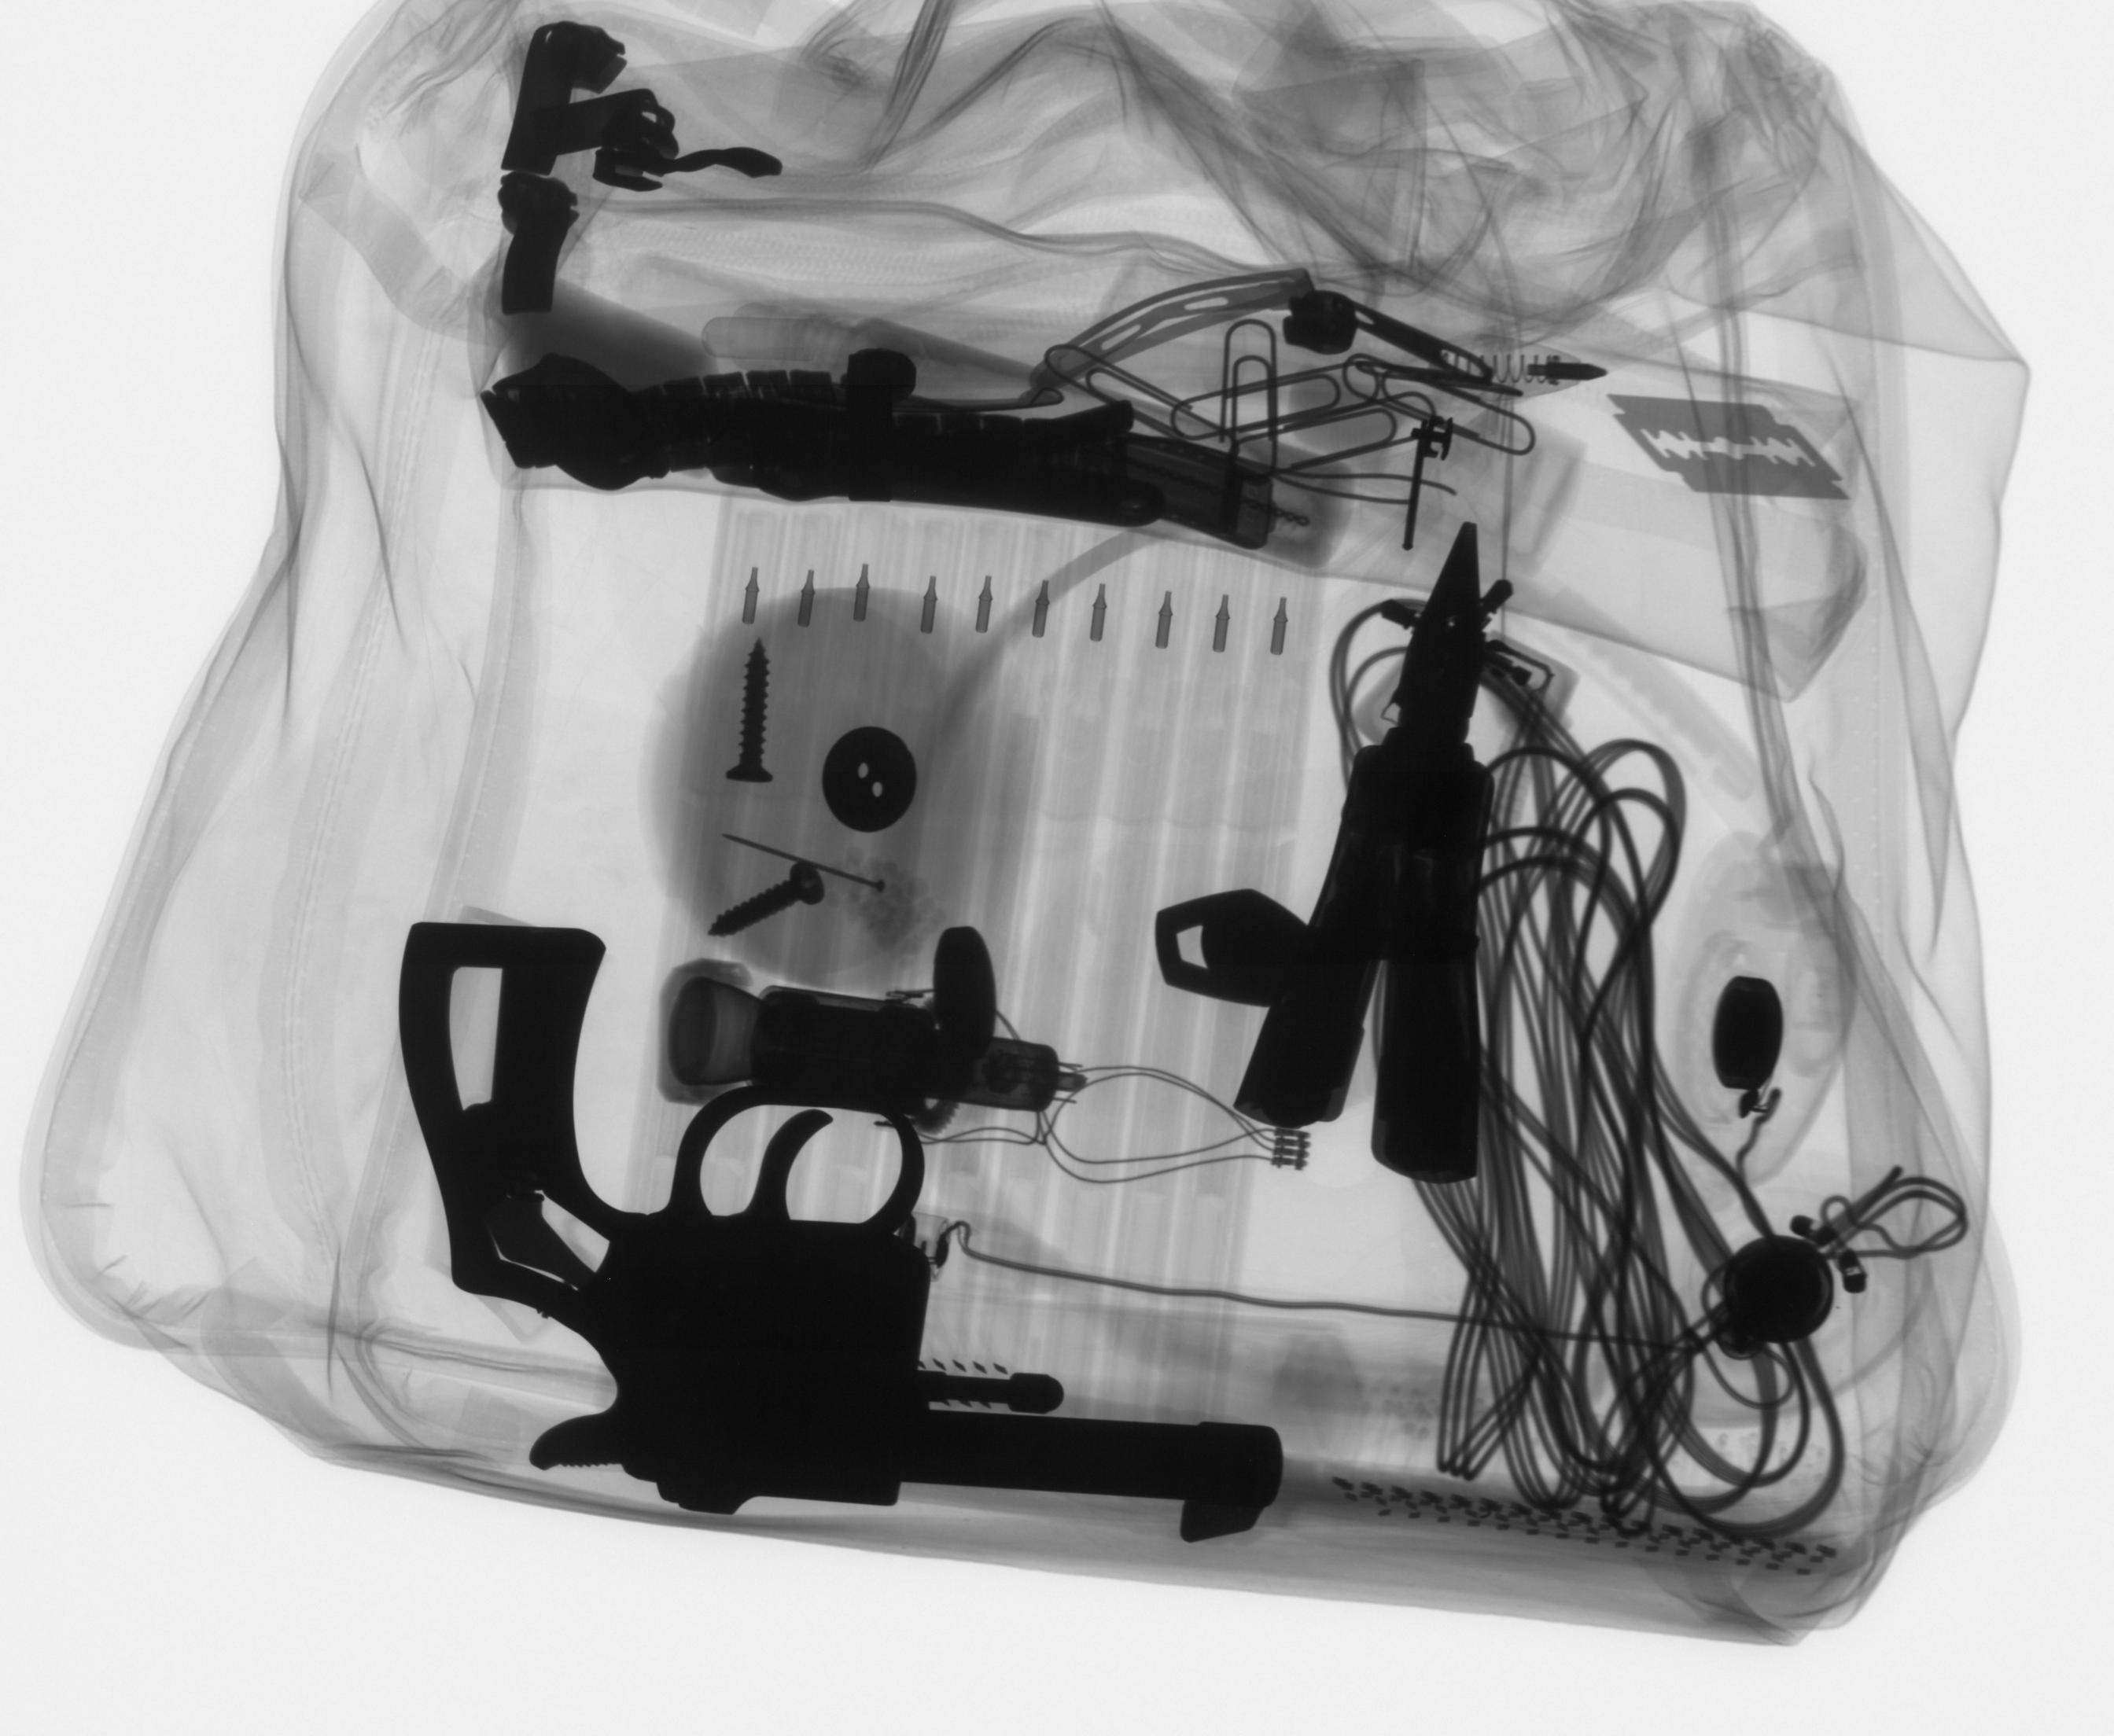Handgun: (376, 909, 1313, 1555)
RazorBlade: (1596, 381, 1872, 525)
